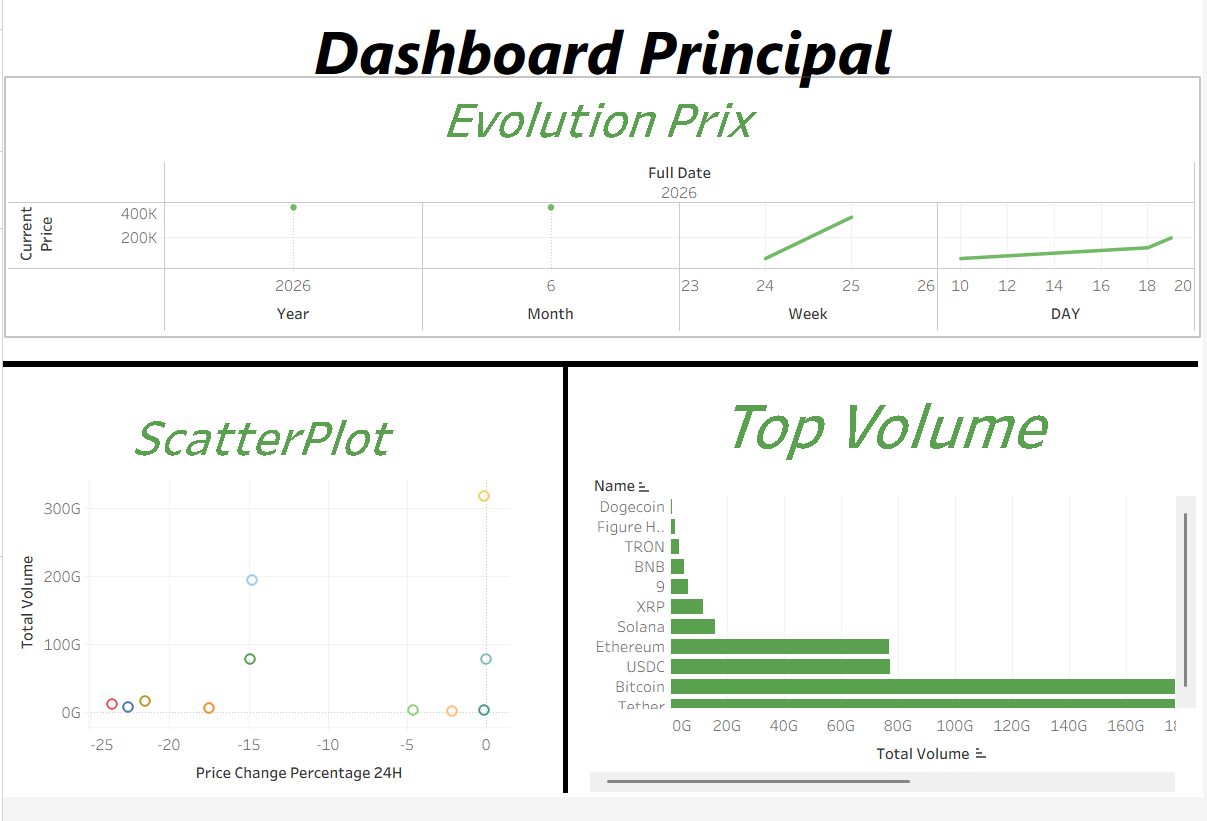

Layout of this report page (visuals, bound fields, positions):
{"tool":"tableau","page":{"name":"Dashboard Principal","canvas":[1200,800],"ordinal":0},"visuals":[{"type":"title","box":[8,8,1184,88]},{"type":"worksheet","title":"Evolution Prix","mark":"Line","rows":["CURRENT_PRICE"],"cols":["FULL_DATE","YEAR","MONTH","WEEK","DAY"],"box":[1,81,1195,258]},{"type":"worksheet","title":"Top Volume","mark":"Bar","rows":["NAME"],"cols":["TOTAL_VOLUME"],"box":[583,378,614,421]},{"type":"worksheet","title":"Scatter Plot","mark":"Automatic","rows":["TOTAL_VOLUME"],"cols":["PRICE_CHANGE_PERCENTAGE_24H"],"box":[2,399,509,398]}]}

Visuals, with their boxes in screenshot pixels (x1, y1, x2, y2), scaled from the page's 1200x800 canvas onto the 1207x821 screenshot:
title: 8,8,1199,99
"Evolution Prix" worksheet (Line marks): 1,83,1203,348
"Top Volume" worksheet (Bar marks): 586,388,1204,820
"Scatter Plot" worksheet: 2,409,514,818
